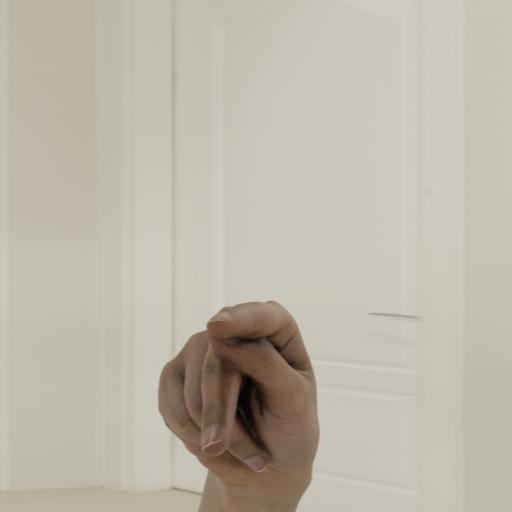P: (131, 293, 345, 512)
